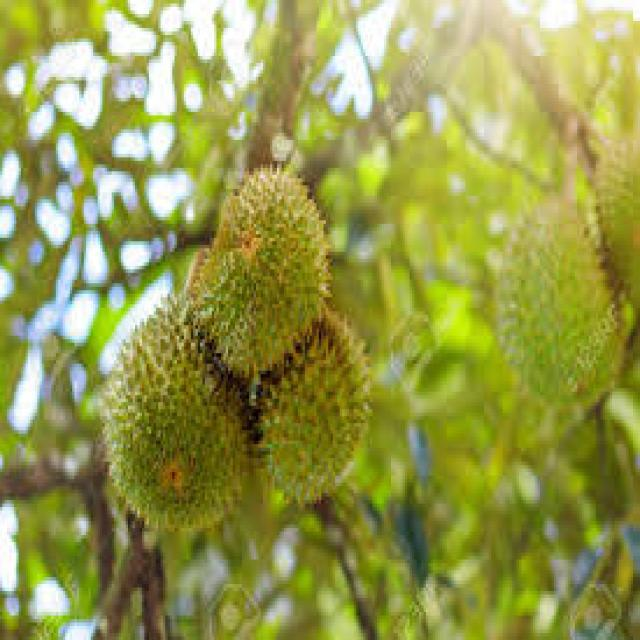immature: (101, 288, 253, 545), (187, 157, 334, 390), (491, 187, 626, 412), (257, 310, 370, 510)
